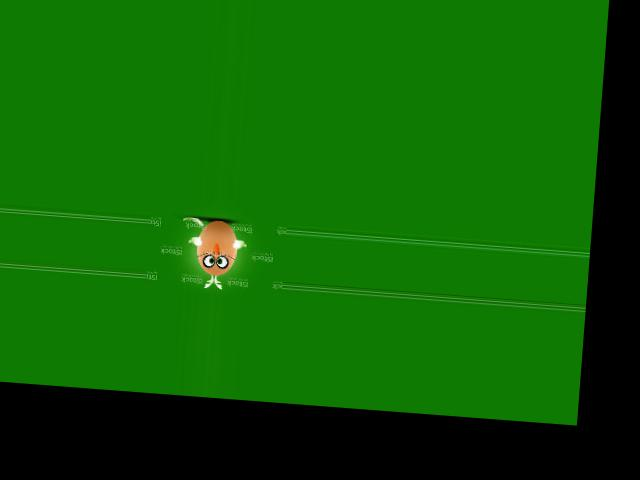egg: (194, 218, 238, 276)
